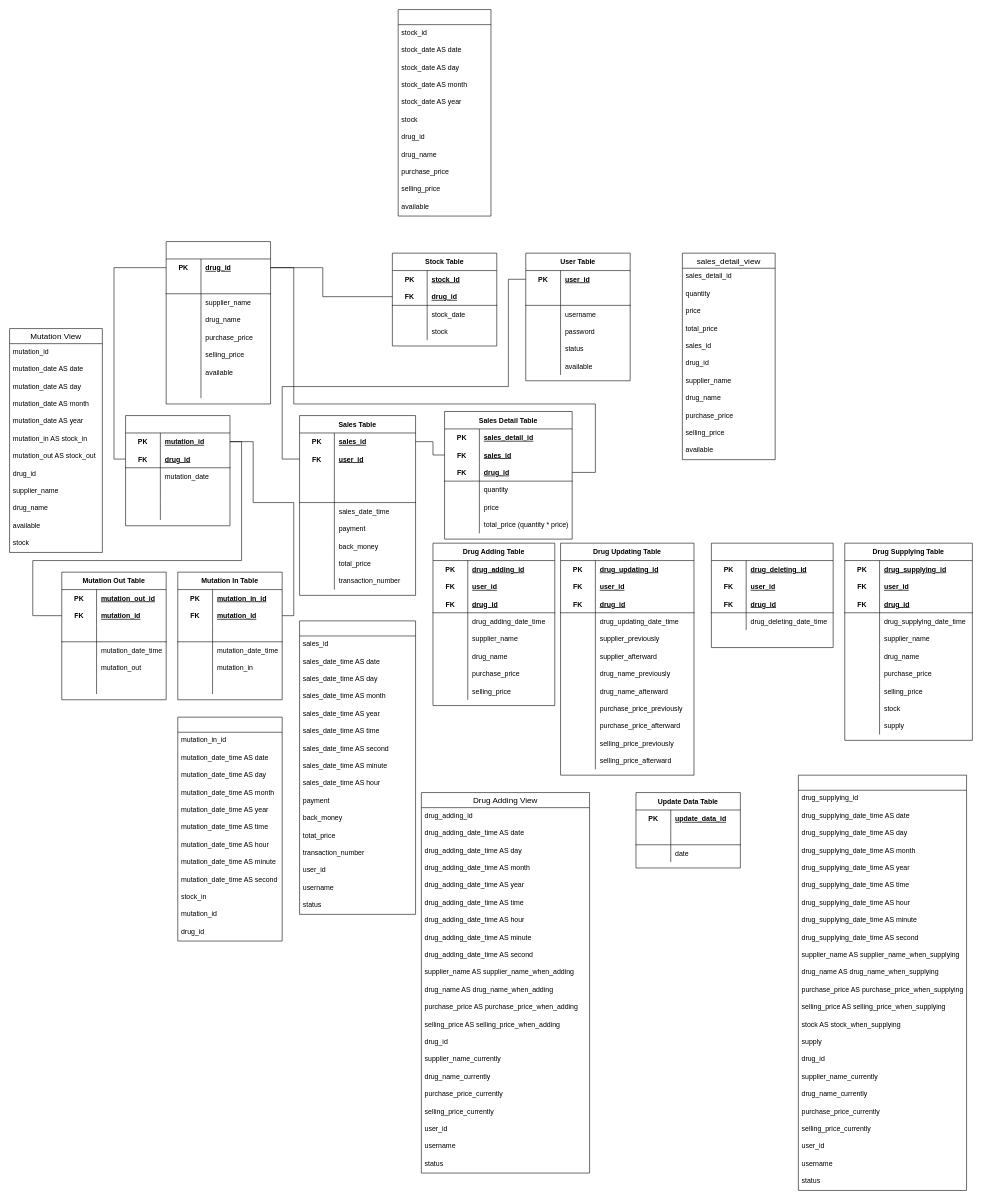
Some shapes in this 982 by 1200 pixel diagram are drawn without their labels. Each missing label, with the box of its shape:
Drug Deleting Table: (711, 543, 833, 648)
Drug Supplying View: (798, 775, 967, 1190)
Drug Table: (166, 241, 271, 404)
Mutation In View: (177, 717, 282, 941)
Mutation Table: (125, 415, 230, 526)
Sales View: (299, 620, 416, 914)
stock_view: (398, 9, 491, 216)
